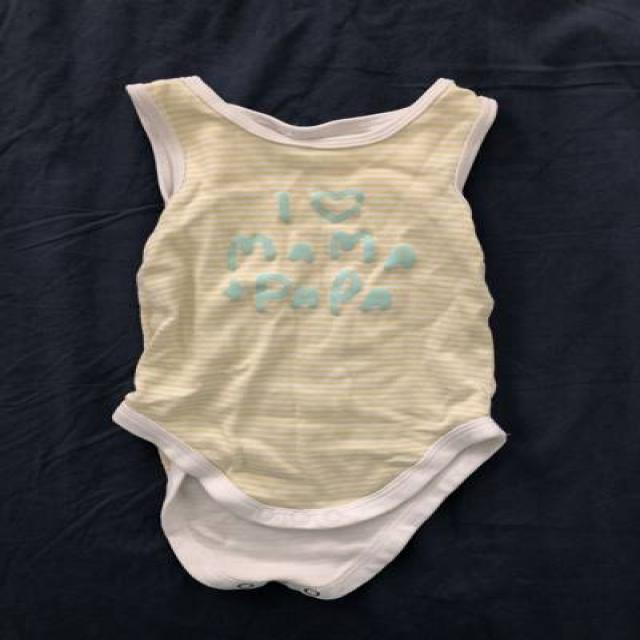Clothes -Biodegradable-: (125, 80, 505, 600)
